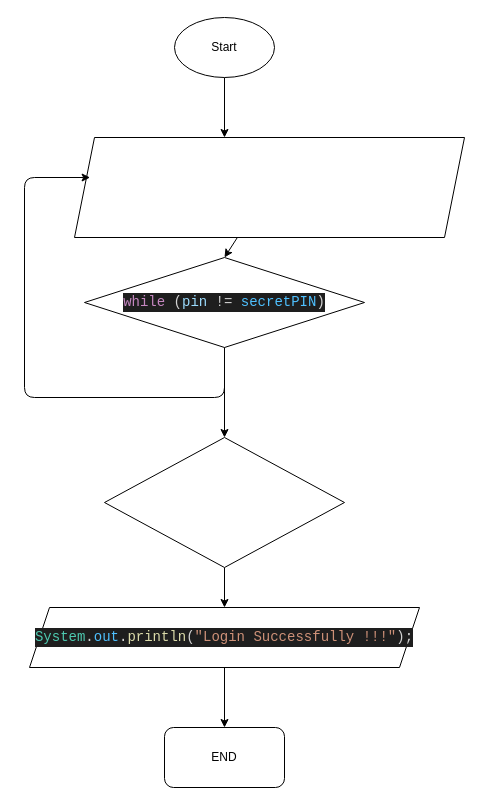
This 482x805 diagram has some shape labels left out. The box of each missing label's shape, as (x1, y1, x2, y2) in pixels:
do { System . out . println ( "Enter PIN: " ); pin = in . nextInt (); }: (74, 136, 464, 238)
if ( pin == secretPIN ): (104, 436, 344, 568)
